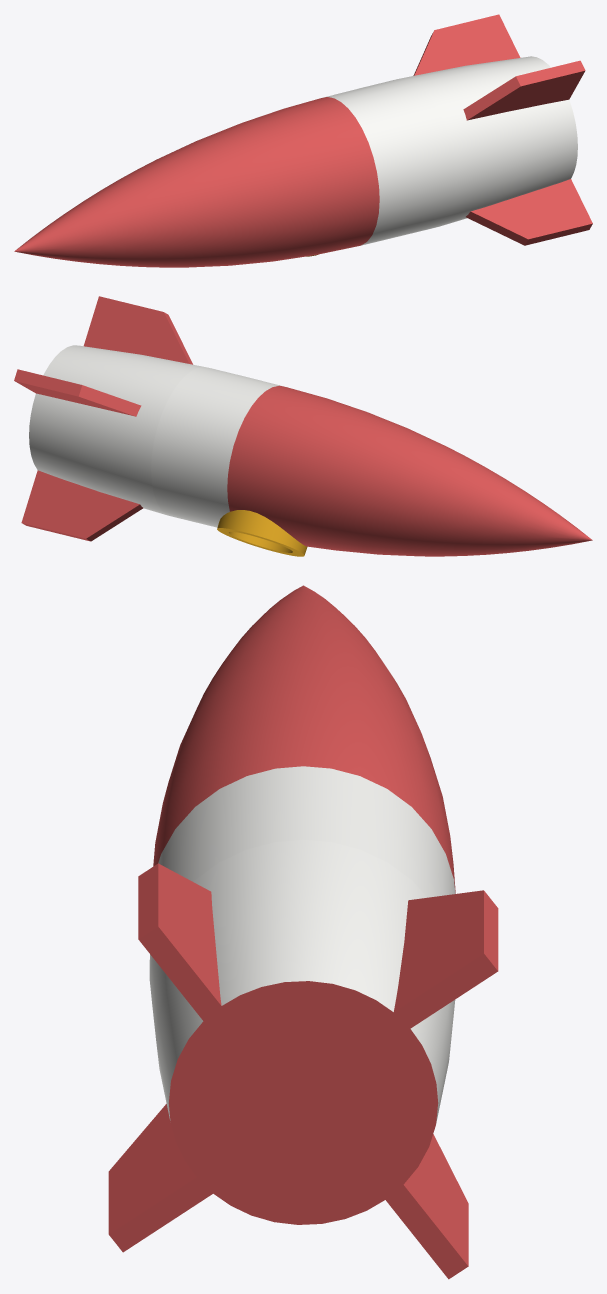
File: Better Rocket For Unity.fbx
3 views of the same model, one above another, from view 1: azimuth 30°, elevation 25°; view 2: azimuth 150°, elevation 25°; view 3: azimuth 270°, elevation 25° (orthographic). The views are drawn at different scales.
Visible parts, largest first — view 1: Body3; view 2: Body3; view 3: Body3.
Part boxes in pixels (x1,y1,x2,y2): Body3: [14, 14, 592, 267]; Body3: [14, 296, 592, 556]; Body3: [108, 585, 498, 1279].
Bounding box in the file's own units: 50 × 15.9 × 15.9.
